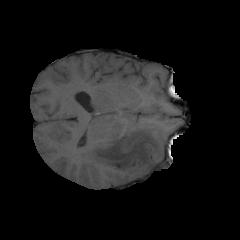glioma: (78, 115, 166, 177)
